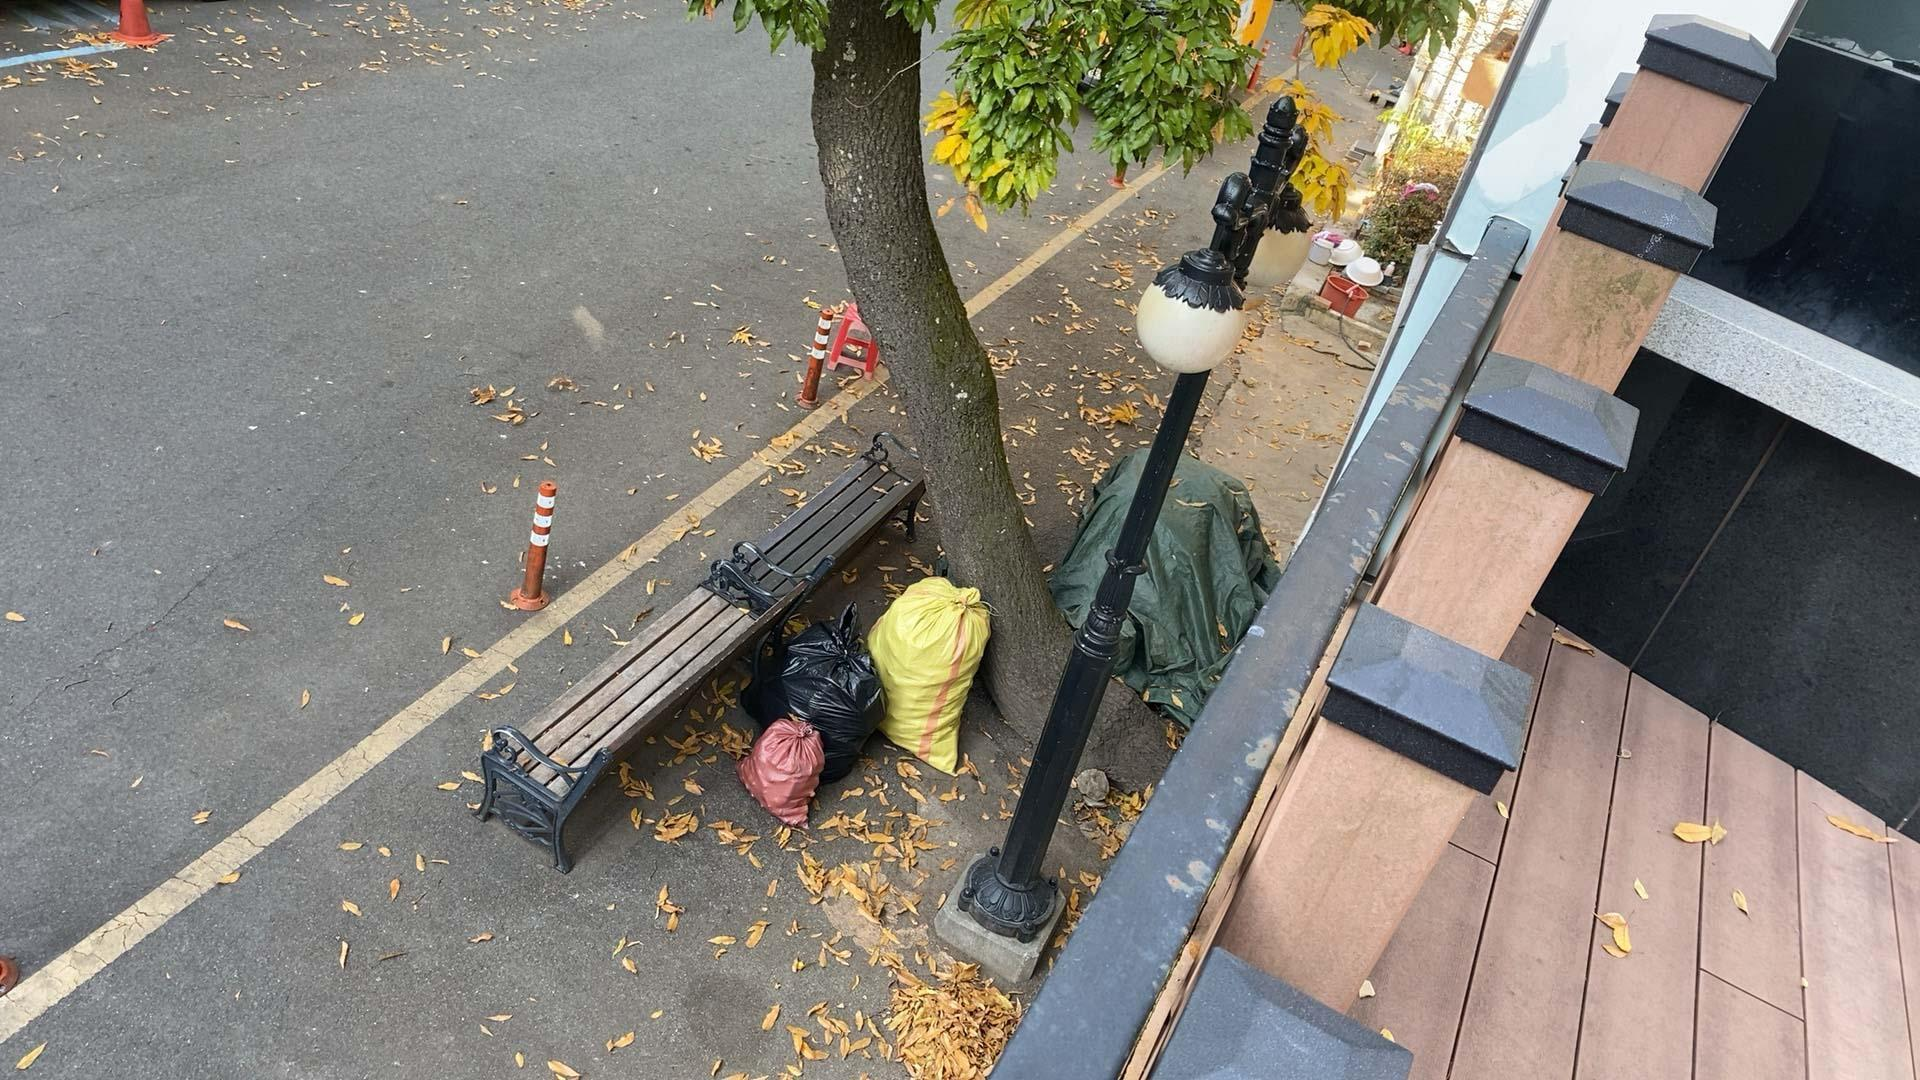black_bag: (735, 596, 887, 785)
